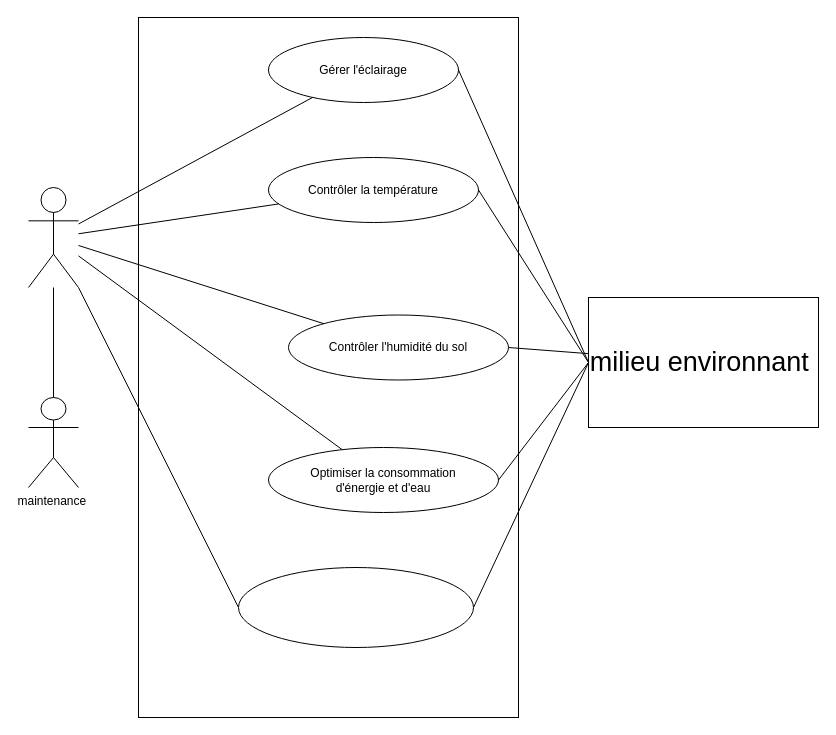
Some shapes in this 836 by 735 pixel diagram are drawn without their labels. The shapes that lost their labels are listed below. From the top down, each one's box as (x1, y1, x2, y2) in pixels, then its label:
(28, 186, 78, 288): Propriétaire
(238, 566, 474, 648): automatiser l'ouverture de la trappe
